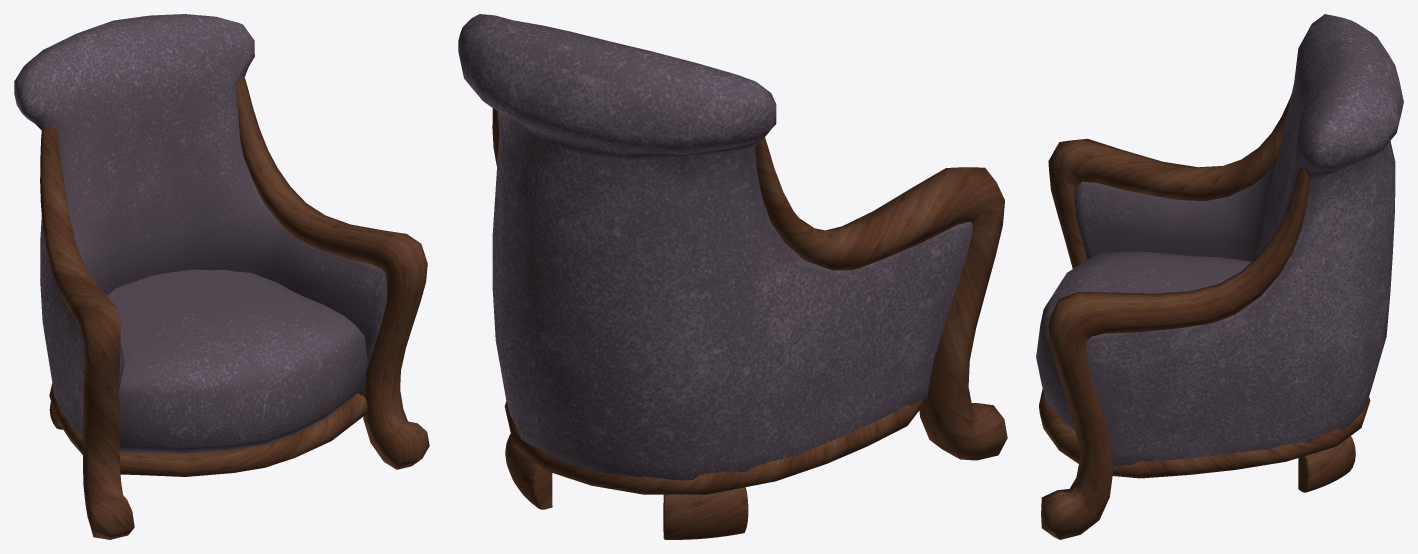
Rendered from yizi.DAE.
3 renders of one model, left to right at view 1: azimuth 30°, elevation 25°; view 2: azimuth 150°, elevation 25°; view 3: azimuth 270°, elevation 25°, orthographic. The views are drawn at different scales.
Visible parts, largest first — view 1: yizi_di_ZBrushPolyMesh3D1, yizi_di_ZBrushPolyMesh3D2, yizi_di_ZBrushPolyMesh3D4, yizi_di_ZBrushPolyMesh3D; view 2: yizi_di_ZBrushPolyMesh3D1, yizi_di_ZBrushPolyMesh3D4, yizi_di_ZBrushPolyMesh3D, yizi_di_ZBrushPolyMesh3D3; view 3: yizi_di_ZBrushPolyMesh3D1, yizi_di_ZBrushPolyMesh3D4, yizi_di_ZBrushPolyMesh3D2, yizi_di_ZBrushPolyMesh3D, yizi_di_ZBrushPolyMesh3D3.
Boxes of the visible parts, x1,y1,x2,y2 form: yizi_di_ZBrushPolyMesh3D1: (14, 14, 387, 438); yizi_di_ZBrushPolyMesh3D2: (107, 269, 367, 454); yizi_di_ZBrushPolyMesh3D4: (40, 76, 429, 539); yizi_di_ZBrushPolyMesh3D: (49, 383, 367, 476); yizi_di_ZBrushPolyMesh3D1: (458, 14, 972, 480); yizi_di_ZBrushPolyMesh3D4: (492, 108, 1007, 460); yizi_di_ZBrushPolyMesh3D: (504, 399, 923, 494); yizi_di_ZBrushPolyMesh3D3: (505, 434, 748, 539); yizi_di_ZBrushPolyMesh3D1: (1074, 14, 1403, 465); yizi_di_ZBrushPolyMesh3D4: (1041, 94, 1309, 539); yizi_di_ZBrushPolyMesh3D2: (1036, 251, 1251, 433); yizi_di_ZBrushPolyMesh3D: (1039, 389, 1370, 478); yizi_di_ZBrushPolyMesh3D3: (1298, 436, 1355, 492).
Bounding box in the file's own units: 0.7622 × 0.8123 × 0.6695.
1 material, 1 textured.
